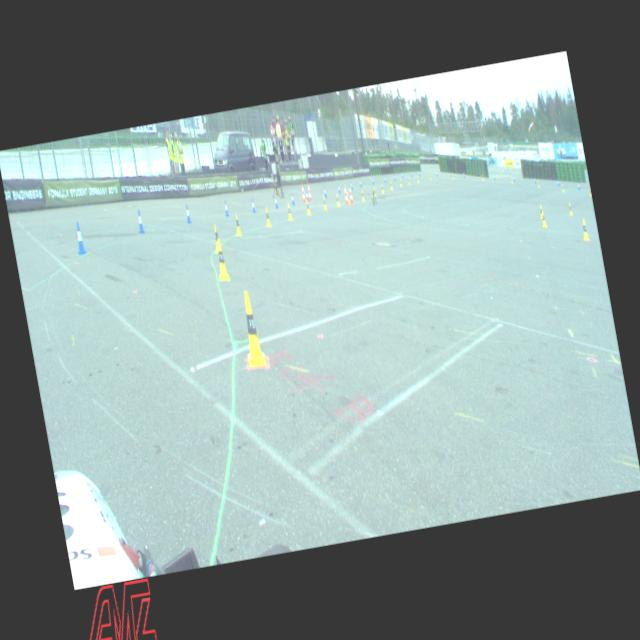blue_cone: (72, 221, 86, 254), (135, 208, 145, 232), (184, 204, 192, 222), (222, 200, 228, 216), (250, 198, 256, 212), (273, 195, 278, 208), (290, 192, 294, 204), (305, 190, 309, 202), (322, 186, 326, 196), (337, 184, 341, 192), (358, 178, 361, 186), (556, 178, 559, 186), (350, 181, 353, 189), (383, 175, 386, 182), (393, 173, 396, 180), (577, 182, 580, 189), (462, 171, 465, 178), (371, 177, 374, 184), (492, 173, 495, 180), (401, 171, 404, 178), (533, 176, 536, 183), (410, 170, 412, 177), (418, 170, 420, 176), (512, 174, 514, 180), (435, 170, 437, 176)
large_orange_cone: (299, 182, 306, 202), (342, 184, 349, 204), (306, 182, 312, 200), (347, 185, 353, 203)
yellow_cone: (236, 288, 267, 366), (212, 238, 230, 281), (210, 222, 223, 253), (580, 218, 590, 241), (233, 212, 242, 236), (263, 206, 271, 226), (285, 202, 292, 220), (540, 210, 546, 228), (304, 198, 310, 214), (335, 192, 340, 205), (538, 205, 543, 218), (322, 196, 326, 210), (568, 202, 572, 215), (346, 192, 350, 204), (388, 180, 392, 190), (360, 190, 364, 200), (372, 186, 376, 196), (380, 183, 384, 192), (560, 184, 564, 192), (536, 179, 540, 187), (588, 188, 592, 195), (428, 173, 432, 180), (399, 178, 402, 186), (416, 175, 419, 183), (451, 172, 454, 180), (481, 173, 484, 180), (406, 178, 409, 185), (510, 176, 513, 183)
